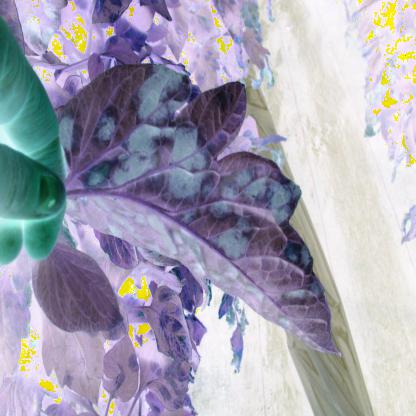Tomato mold leaf: (57, 55, 360, 386)
